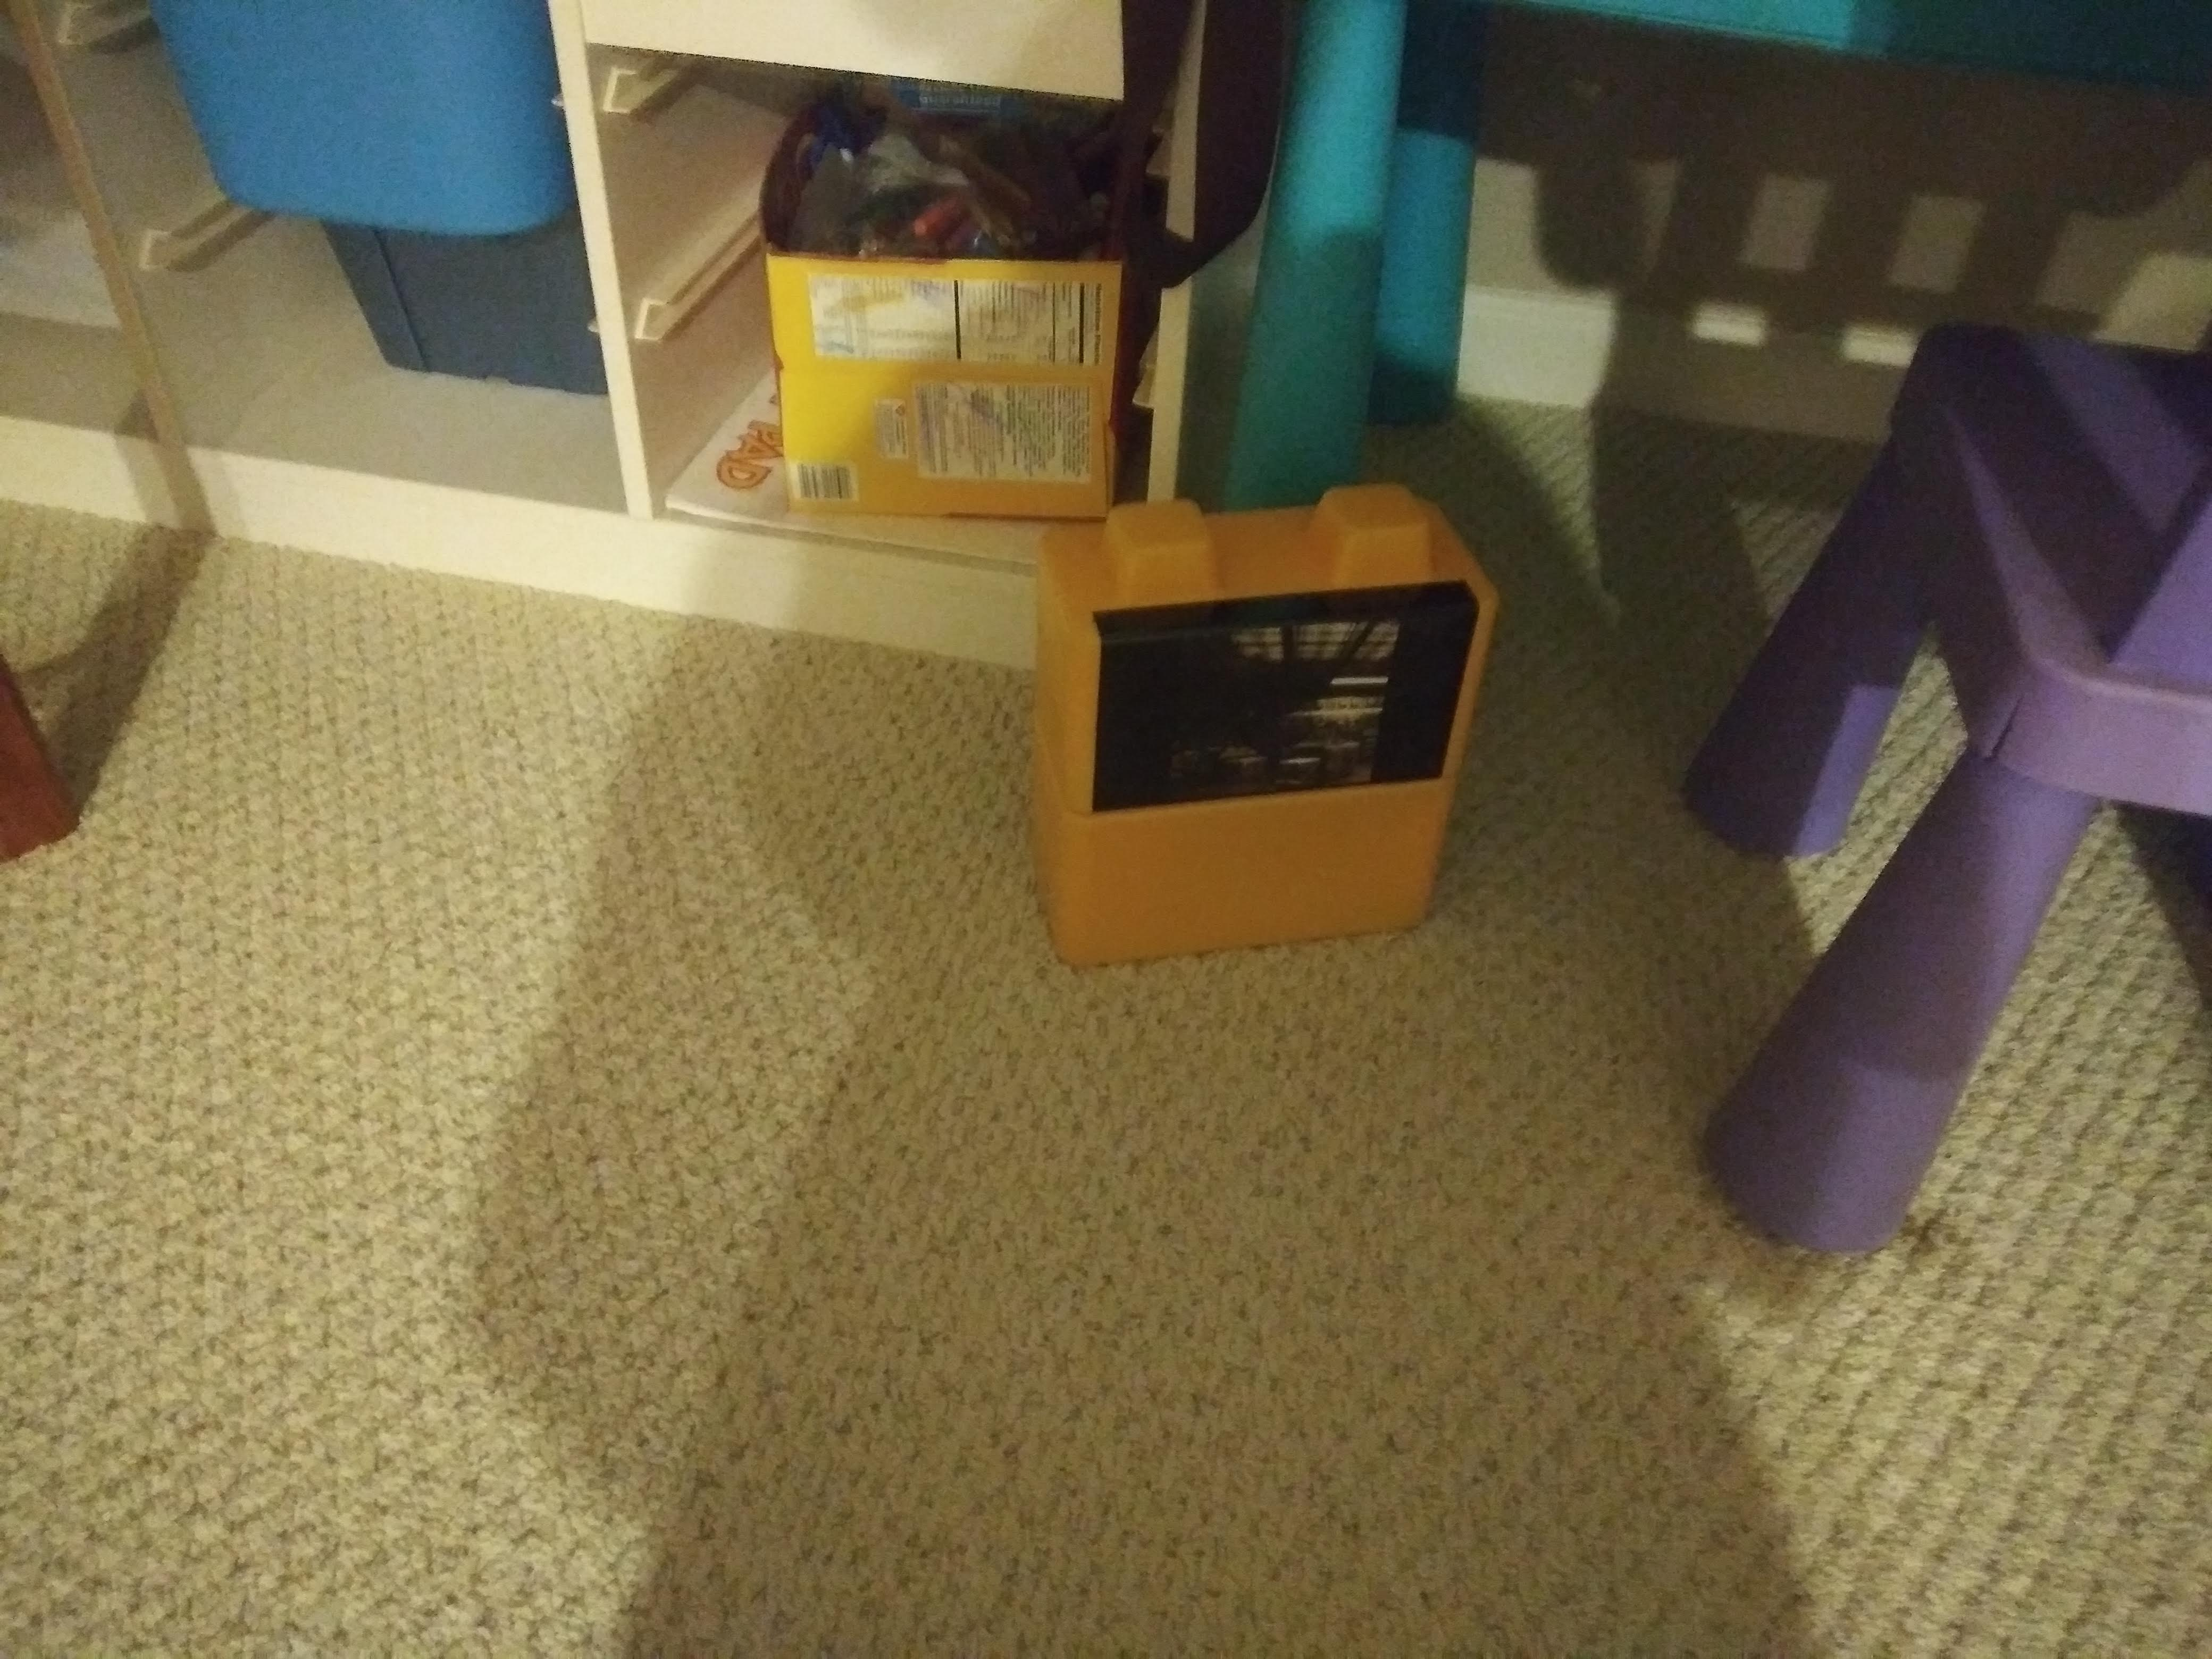skystone: (1068, 575, 1482, 800)
stone: (1061, 819, 1442, 965)
